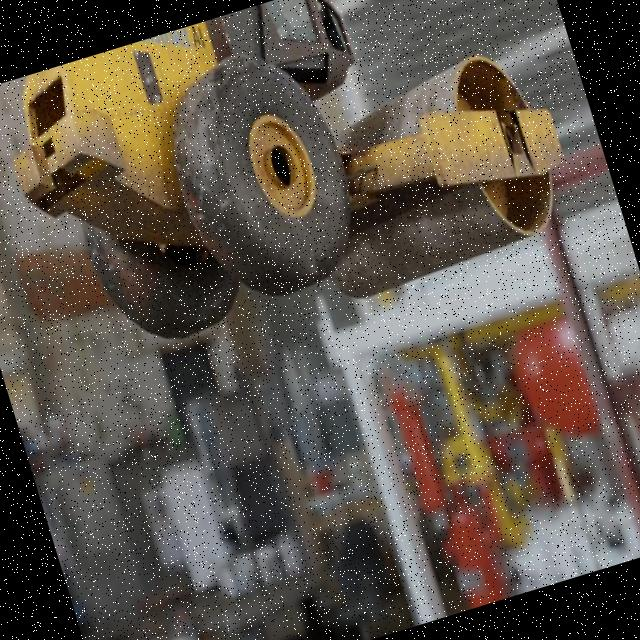Roller: (0, 0, 586, 387)
